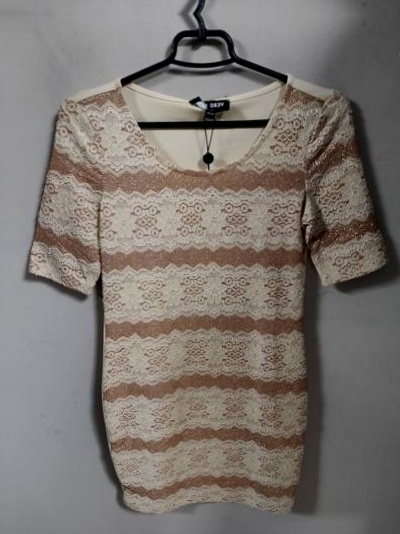Dress: (20, 63, 376, 509)
